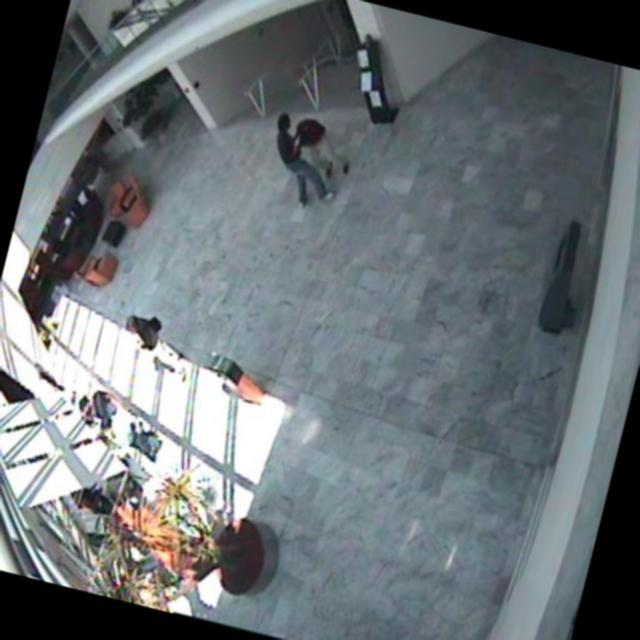person: (250, 110, 352, 224), (278, 102, 364, 195)
